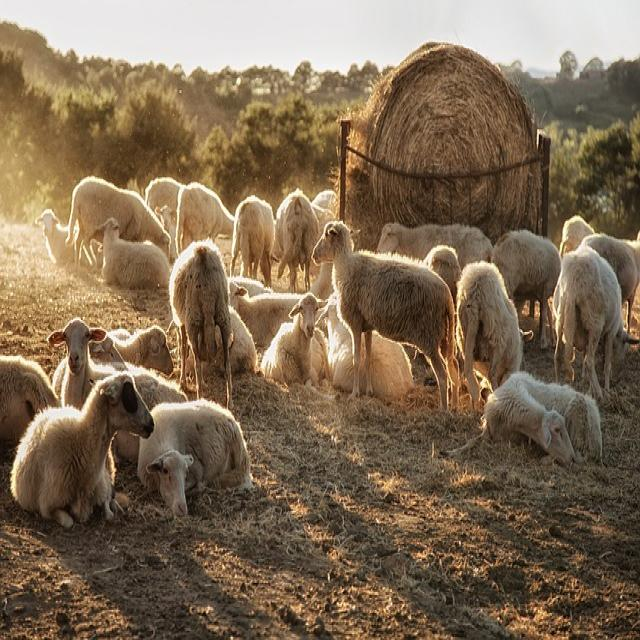goat: (311, 221, 465, 412), (10, 376, 154, 530), (135, 400, 251, 520), (555, 239, 635, 406), (168, 240, 234, 413), (483, 373, 601, 464), (258, 264, 337, 394), (65, 176, 170, 269), (53, 320, 154, 409), (457, 261, 523, 391), (271, 189, 322, 293), (177, 182, 234, 257), (230, 195, 275, 288)
